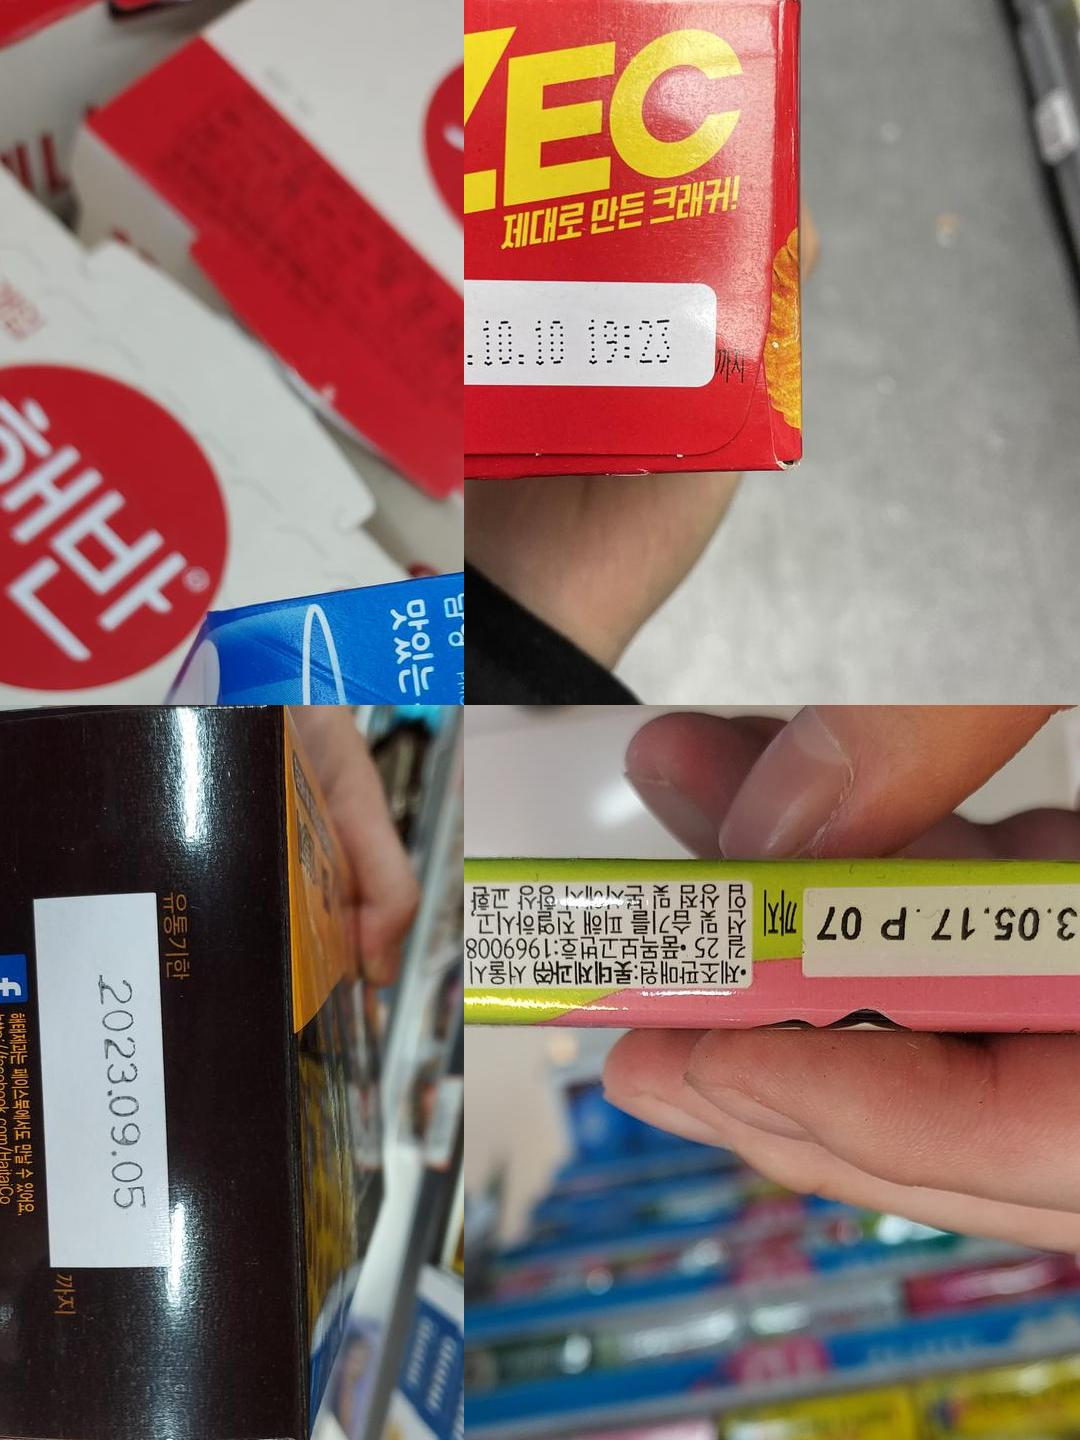gum: (807, 876, 1080, 972)
snack food: (41, 903, 166, 1268), (464, 281, 708, 386)
